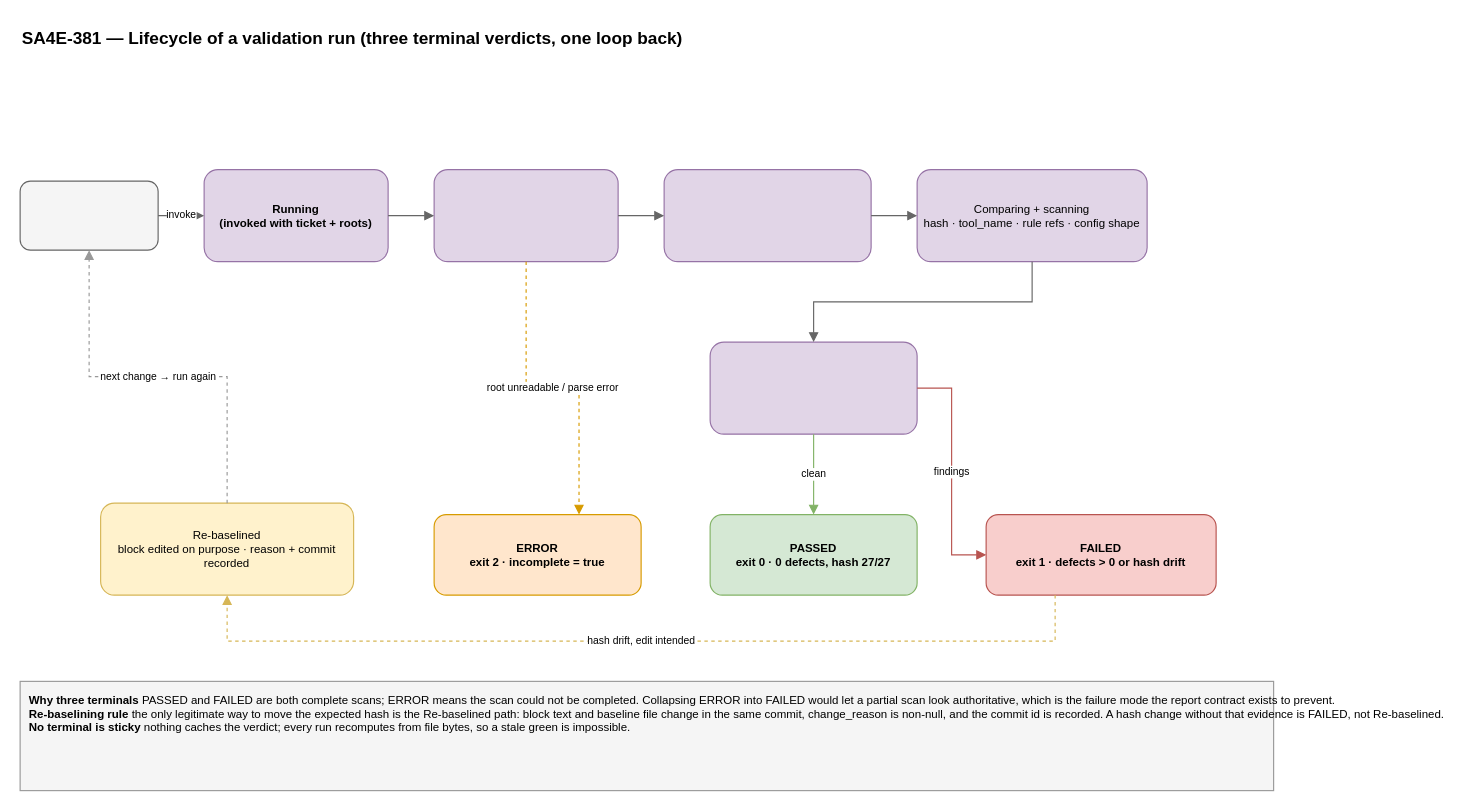
Image size: 1465x811. Some labels were removed from this diagram. The shapes that lost their labels are listed below. From the top down, each one's box as (x1, y1, x2, y2) in pixels, then its label:
(19, 180, 158, 250): Not run
(433, 168, 618, 262): Enumerating glob roots, drop excluded paths
(663, 168, 871, 262): Extracting + normalising 26-line span → 25 lines → sha256
(709, 341, 917, 434): Writing report json + markdown, exit code set
